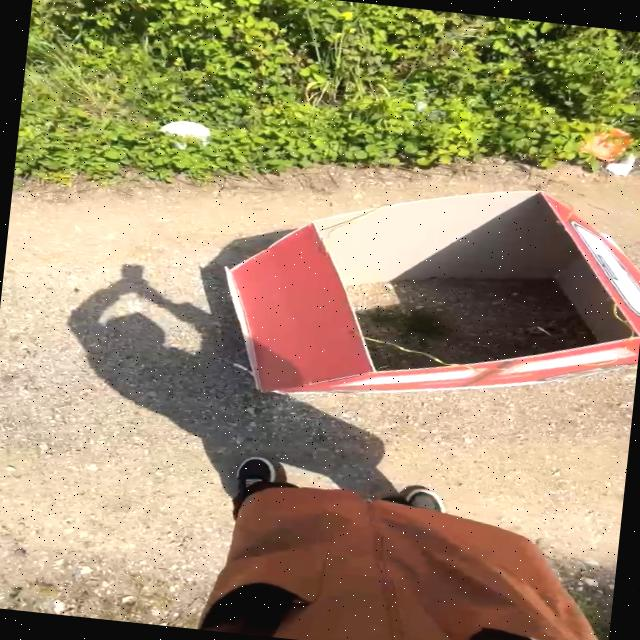red_car: (140, 105, 640, 467)
